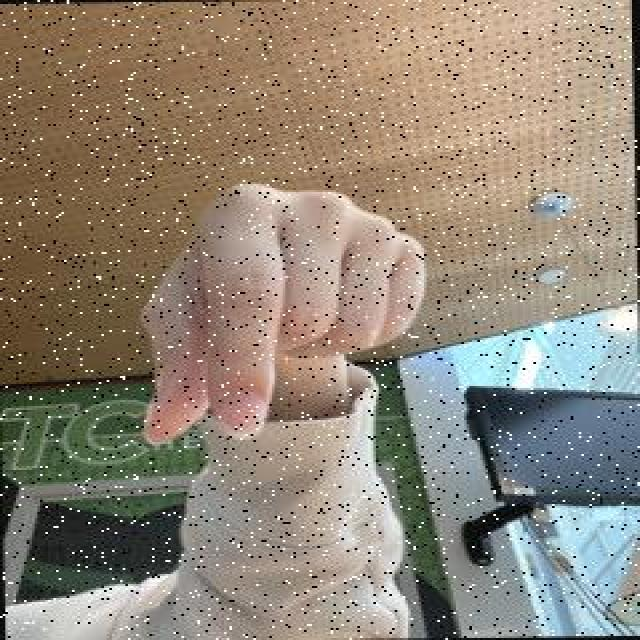Q: (132, 176, 441, 450)
